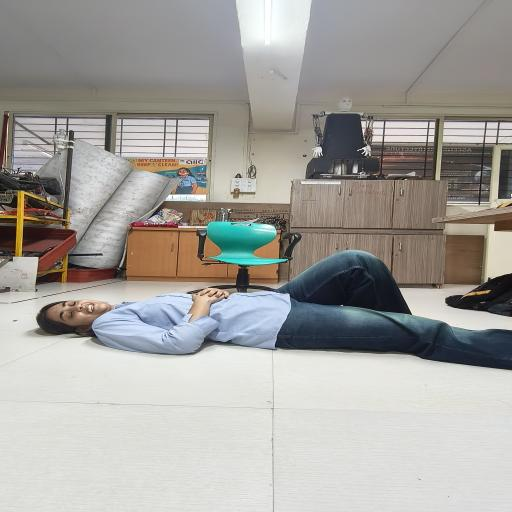survivor: (35, 248, 512, 371)
